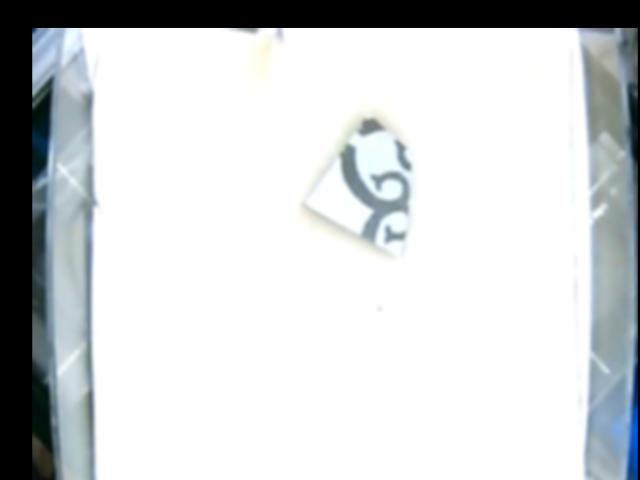China: (303, 114, 411, 255)
